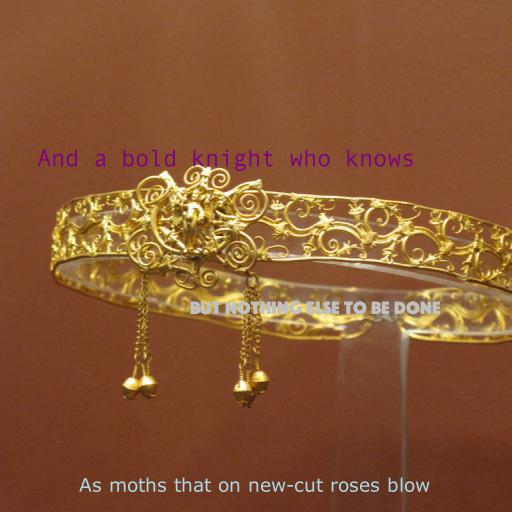Andale Mono: (37, 149, 415, 172)
Phosphate: (189, 301, 441, 315)
Verdana: (78, 477, 430, 493)
